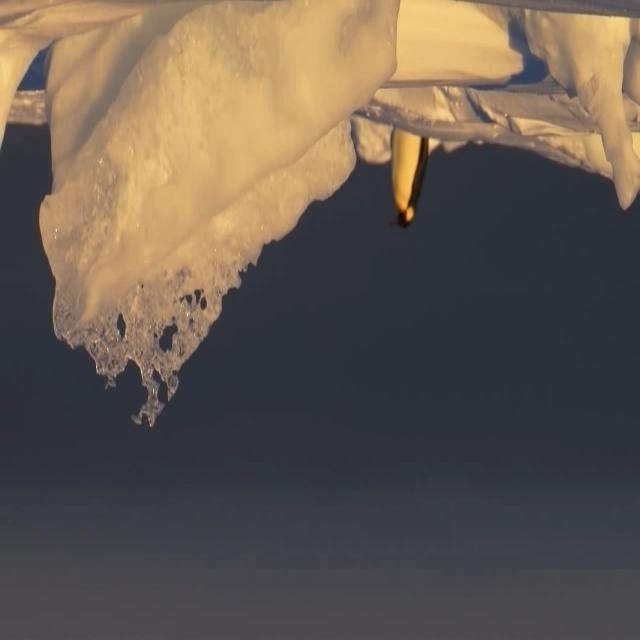penguin: (388, 126, 428, 228)
